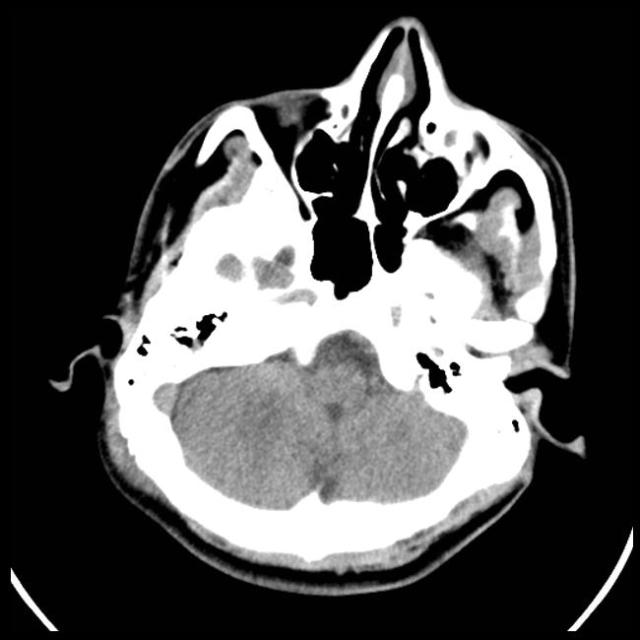lesion: (86, 16, 588, 594)
